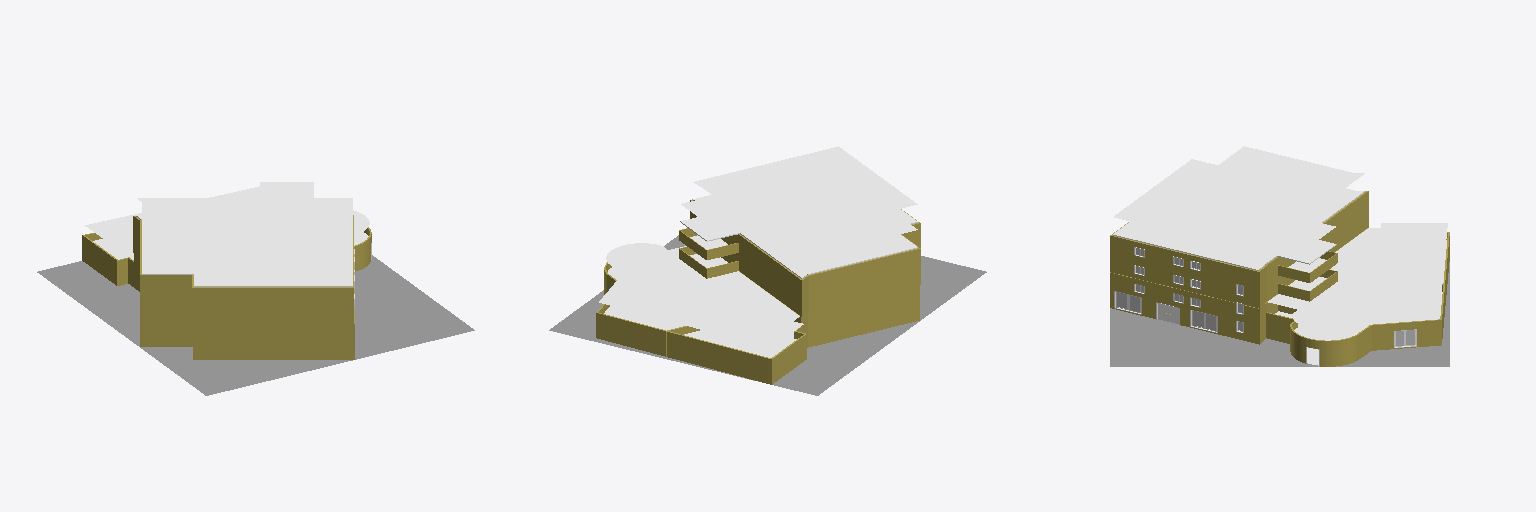
The model's file is building3.obj.
The picture shows the model from 3 angles: view 1: azimuth 30°, elevation 25°; view 2: azimuth 150°, elevation 25°; view 3: azimuth 270°, elevation 25°; orthographic projection.
Visible parts, largest first — view 1: ground_1, room_55_311, room_55_310, wall_20_118, wall_28_166, wall_36_214, wall_9_52, room_58_317, wall_38_226, wall_22_130, wall_30_178, wall_15_88 (+3 smaller); view 2: room_55_311, ground_1, room_57_315, wall_1_4, room_58_317, room_55_310, wall_31_184, wall_39_232, wall_23_136, wall_12_70, wall_40_239, wall_32_191 (+5 smaller); view 3: room_55_311, ground_1, room_57_315, room_55_310, room_58_317, wall_35_208, wall_27_160, wall_19_112, room_57_314, wall_4_22, wall_2_10, wall_8_46 (+5 smaller).
Boxes of the visible parts, x1,y1,x2,y2 form: ground_1: [37, 255, 474, 395]; room_55_311: [137, 198, 352, 268]; room_55_310: [136, 216, 352, 286]; wall_20_118: [193, 324, 354, 342]; wall_28_166: [192, 306, 353, 323]; wall_36_214: [192, 288, 353, 305]; wall_9_52: [193, 343, 354, 359]; room_58_317: [85, 213, 141, 249]; wall_38_226: [140, 275, 191, 293]; wall_22_130: [140, 312, 191, 329]; wall_30_178: [140, 294, 191, 311]; wall_15_88: [82, 235, 116, 285]; room_55_311: [693, 146, 917, 260]; ground_1: [549, 235, 986, 395]; room_57_315: [599, 243, 769, 320]; wall_1_4: [596, 313, 767, 383]; room_58_317: [670, 296, 803, 347]; room_55_310: [693, 195, 917, 278]; wall_31_184: [809, 267, 920, 311]; wall_39_232: [809, 249, 920, 293]; wall_23_136: [808, 285, 919, 329]; wall_12_70: [808, 303, 919, 347]; wall_40_239: [721, 234, 801, 298]; wall_32_191: [721, 253, 801, 316]; room_55_311: [1114, 146, 1364, 252]; ground_1: [1110, 262, 1449, 366]; room_57_315: [1268, 250, 1442, 330]; room_55_310: [1113, 188, 1365, 270]; room_58_317: [1340, 223, 1447, 273]; wall_35_208: [1110, 236, 1259, 289]; wall_27_160: [1110, 254, 1259, 308]; wall_19_112: [1110, 273, 1259, 326]; room_57_314: [1275, 292, 1442, 340]; wall_4_22: [1290, 327, 1356, 366]; wall_2_10: [1372, 320, 1441, 350]; wall_8_46: [1110, 291, 1259, 344].
Bounding box in the file's own units: 3423 × 1098 × 3742.